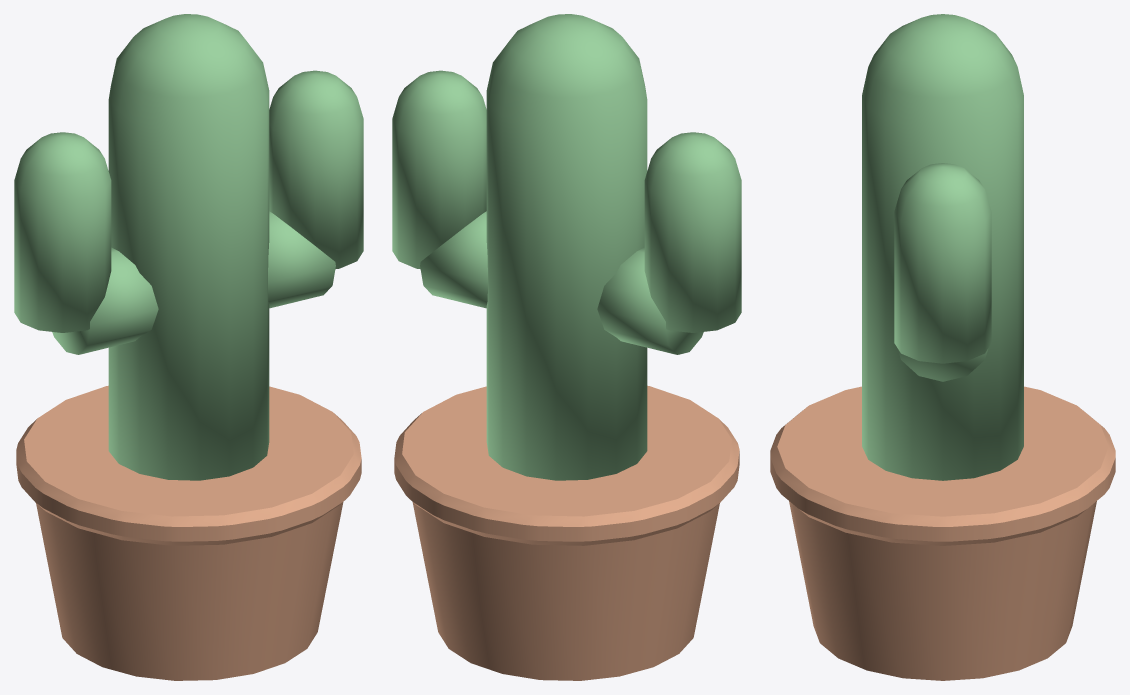
File: Cactus.fbx
The picture shows the model from 3 angles, left to right: view 1: azimuth 30°, elevation 25°; view 2: azimuth 150°, elevation 25°; view 3: azimuth 270°, elevation 25°; orthographic projection.
Visible parts, largest first — view 1: Body.004, Trim.004; view 2: Body.004, Trim.004; view 3: Body.004, Trim.004.
Part boxes in pixels (x1,y1,x2,y2): Body.004: [14, 14, 363, 480]; Trim.004: [16, 385, 361, 680]; Body.004: [392, 14, 741, 480]; Trim.004: [394, 385, 739, 680]; Body.004: [862, 14, 1023, 480]; Trim.004: [770, 386, 1115, 680].
Size of the model in its own units: 0.96 by 1.65 by 0.8537.
